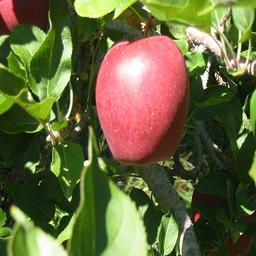apple: (94, 38, 188, 167)
